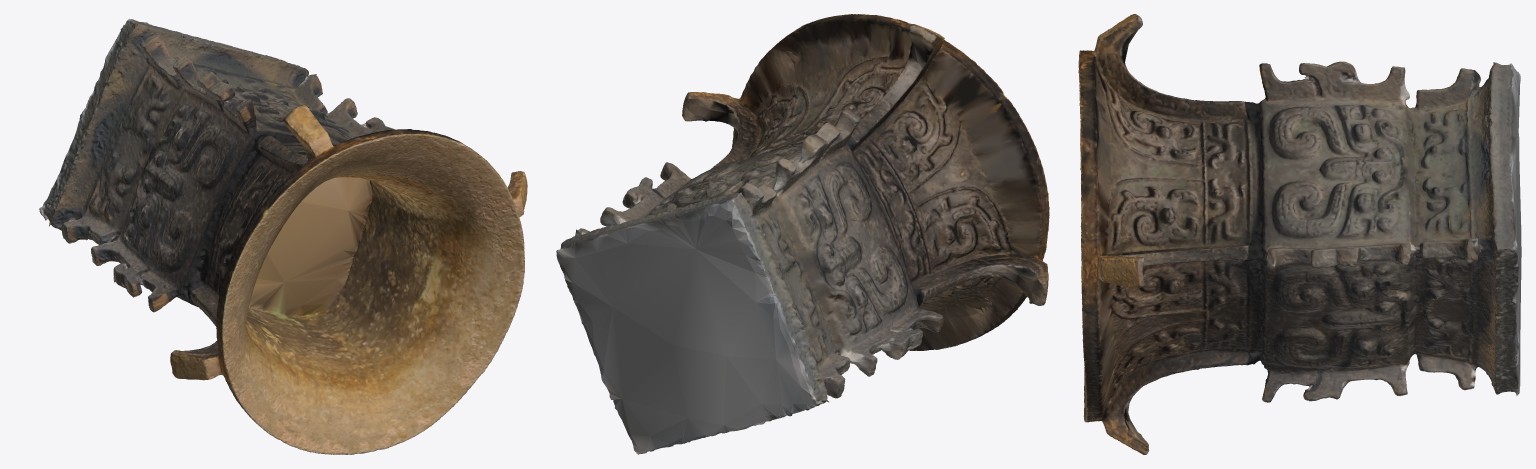
Rendered from rijifangzun_dmnalq.glb.
The picture shows the model from 3 angles, left to right: view 1: azimuth 30°, elevation 25°; view 2: azimuth 150°, elevation 25°; view 3: azimuth 270°, elevation 25°; orthographic projection. The views are drawn at different scales.
Parts seen in each view (by area): view 1: default; view 2: default; view 3: default.
Part boxes in pixels (bbox=[...]): default: bbox=[39, 18, 527, 454]; default: bbox=[556, 14, 1049, 454]; default: bbox=[1078, 14, 1521, 454].
Bounding box in the file's own units: 970330 × 945008 × 978452.
